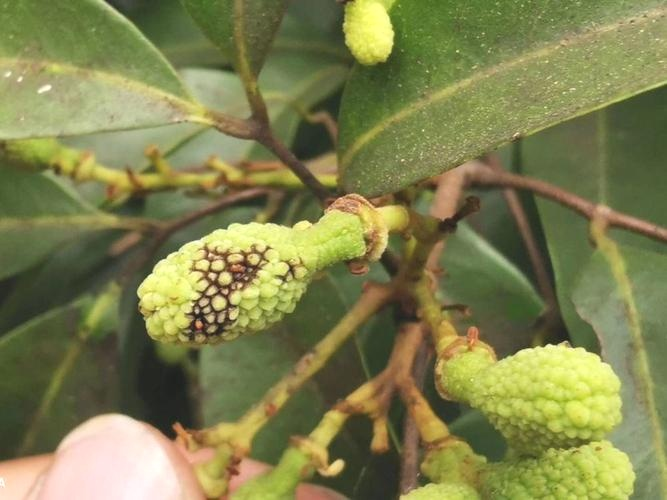Anthracnose: (177, 234, 263, 331)
